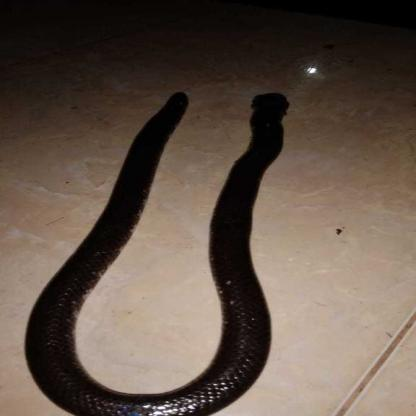Snake: (22, 74, 284, 416)
